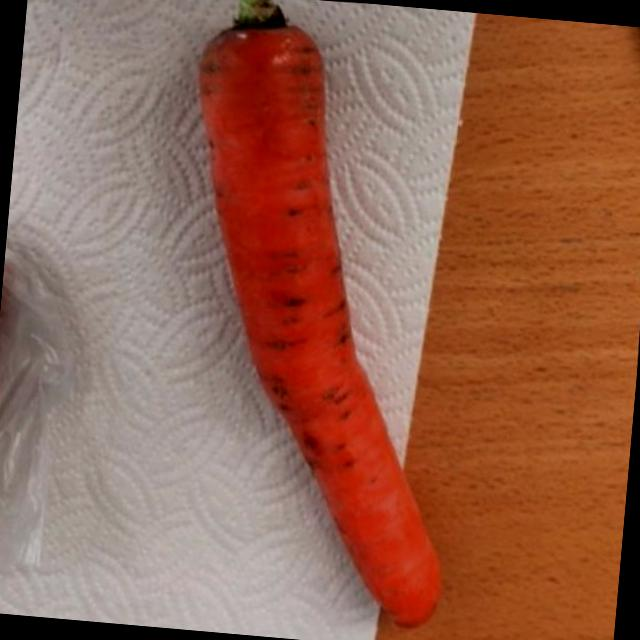Carrot: (141, 0, 490, 639)
